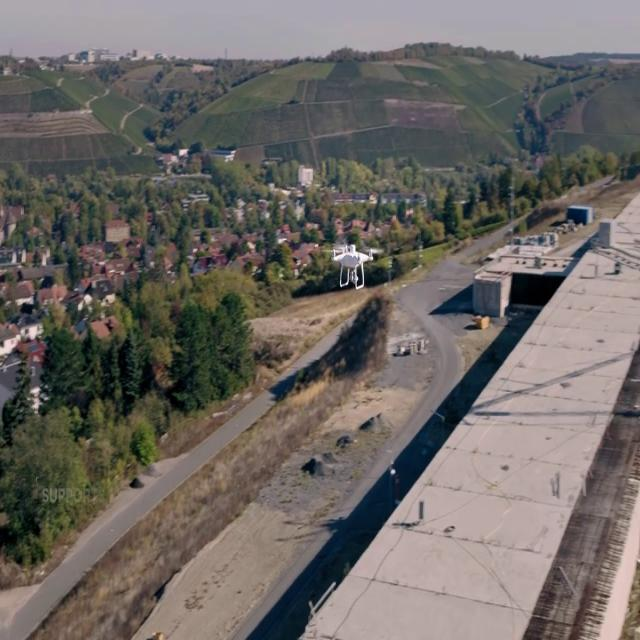drone: (320, 238, 384, 294)
